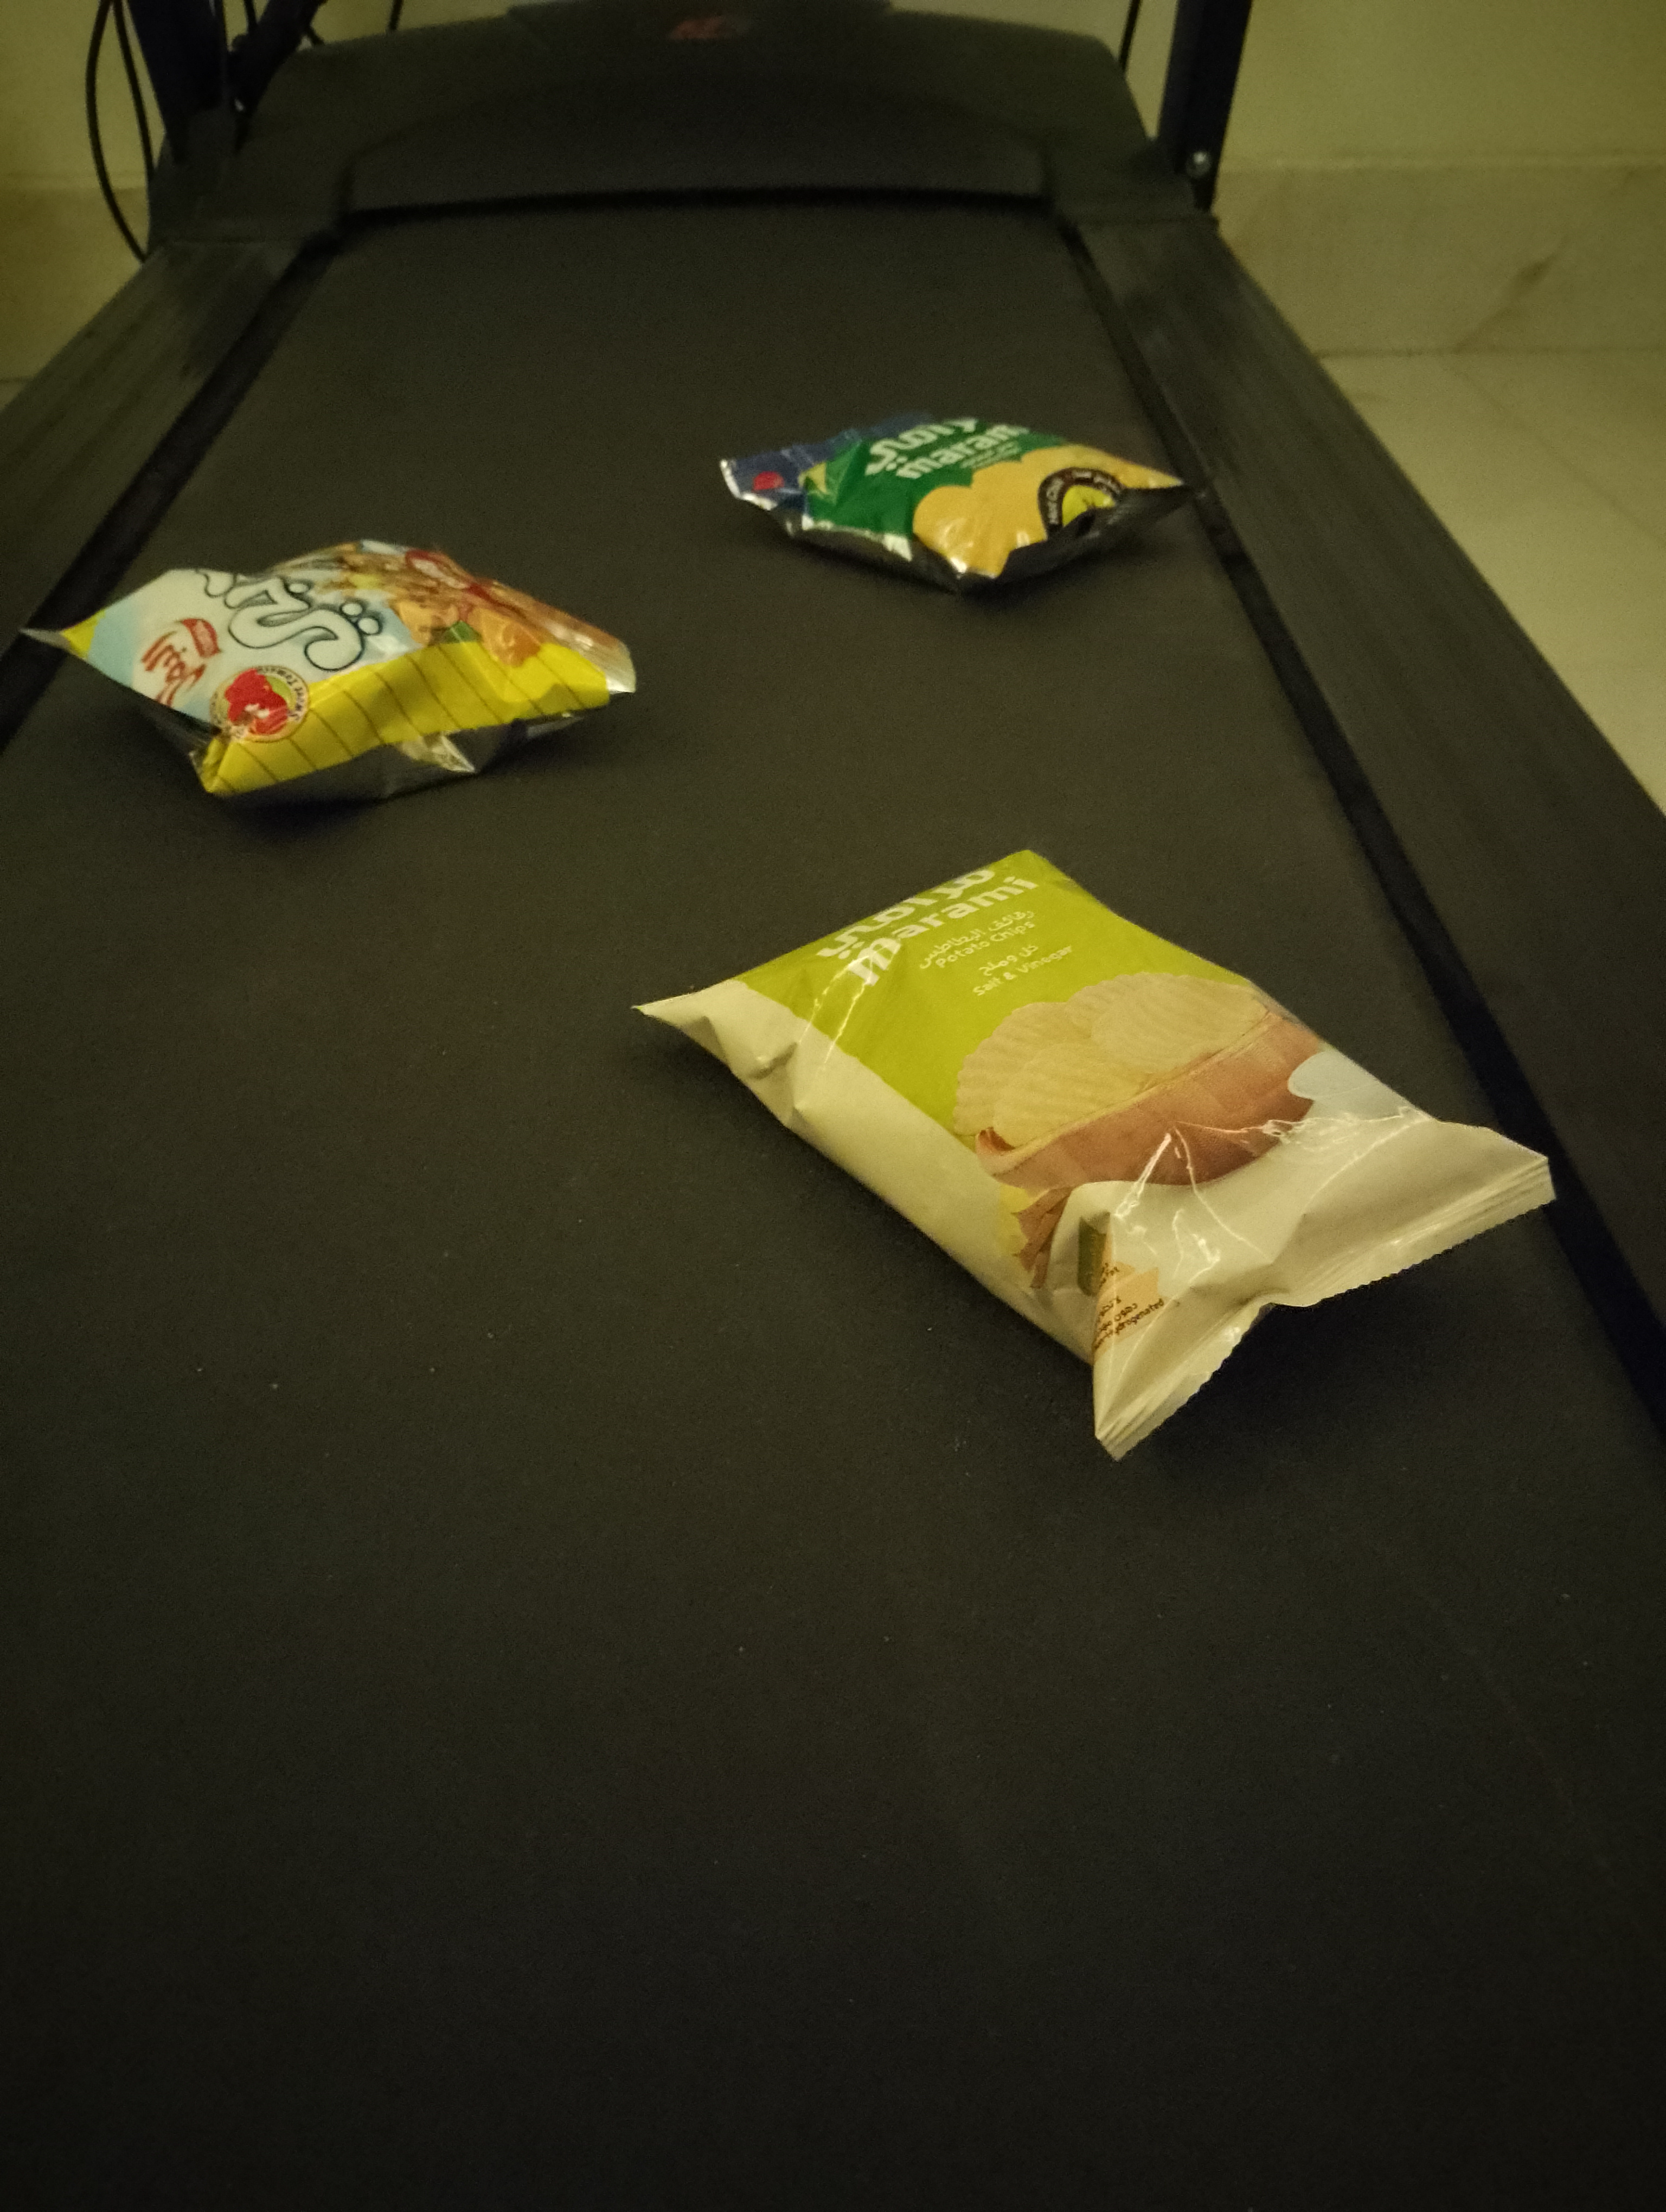albatal_dubbi_corn_snack: (16, 537, 637, 808)
marami_hot_chili: (719, 409, 1216, 596)
marami_salt_&_vinegar: (630, 848, 1559, 1465)
